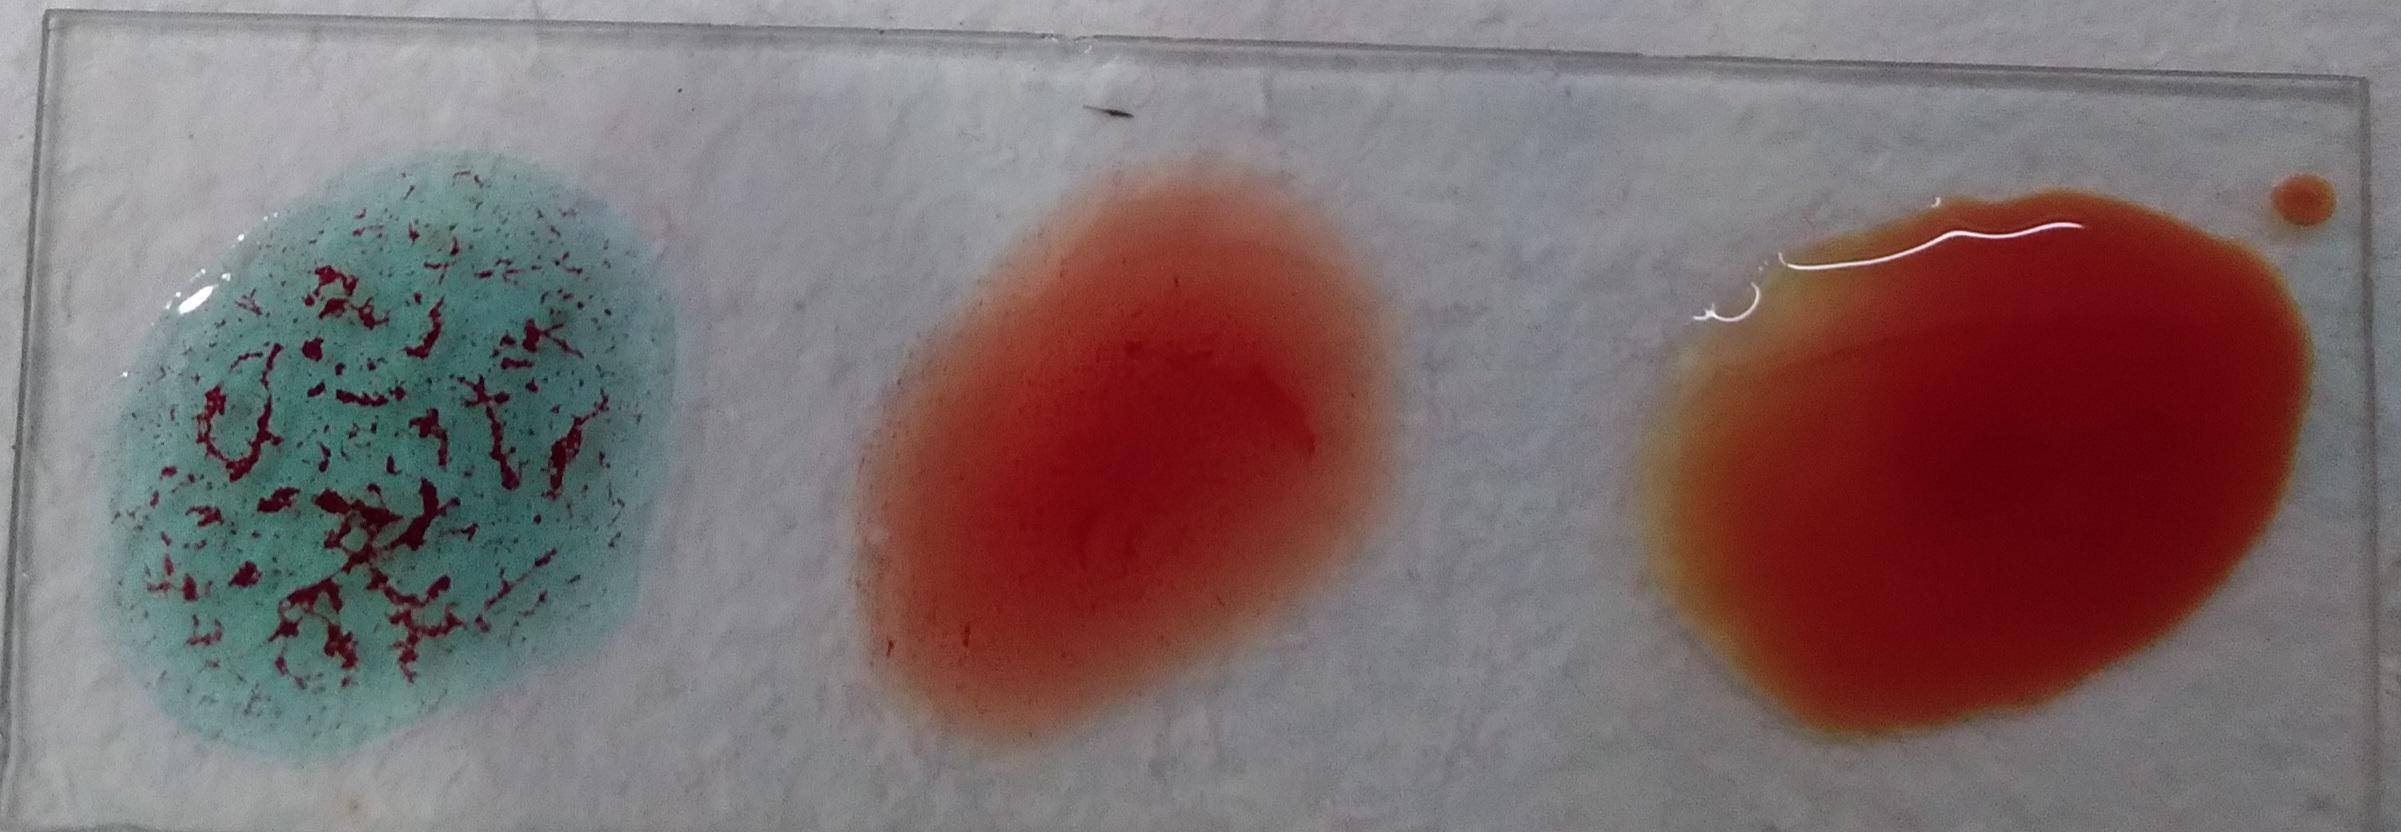A: (1724, 87, 2277, 690)
